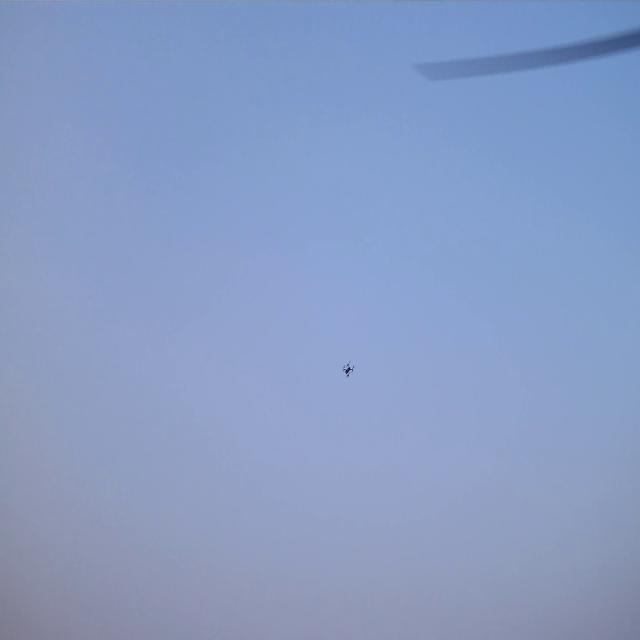UAV: (342, 360, 354, 379)
